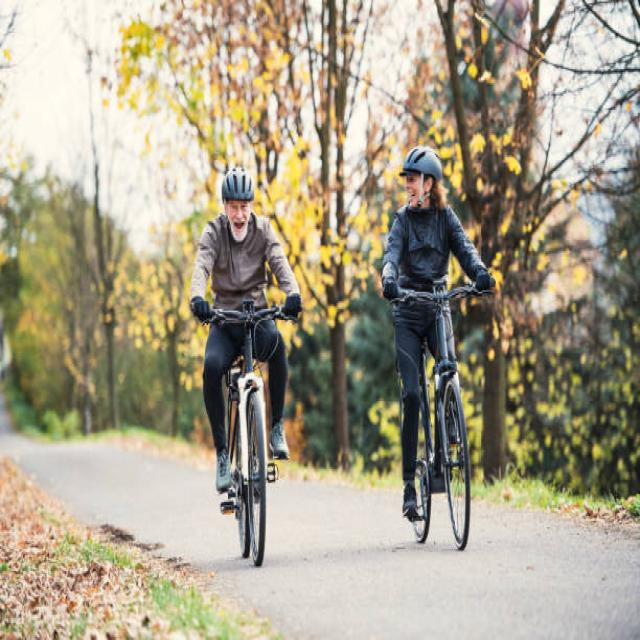bicycle: (381, 146, 495, 548), (190, 167, 302, 565)
